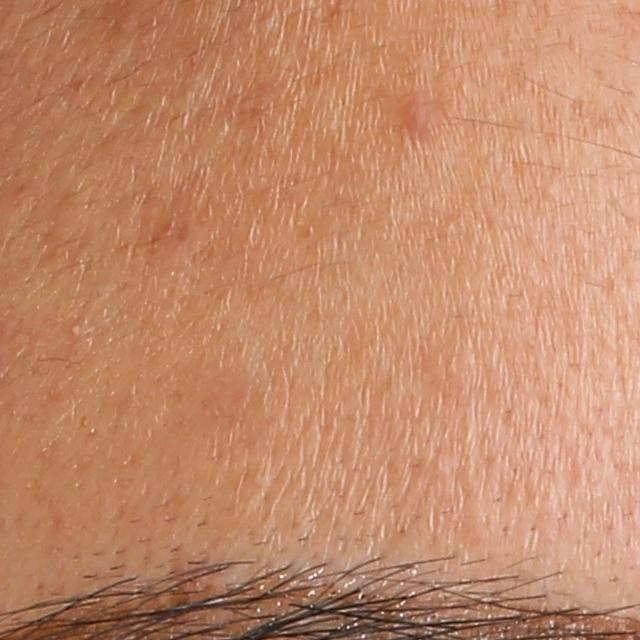comedo: (539, 180, 564, 202)
papule: (402, 96, 434, 133)
